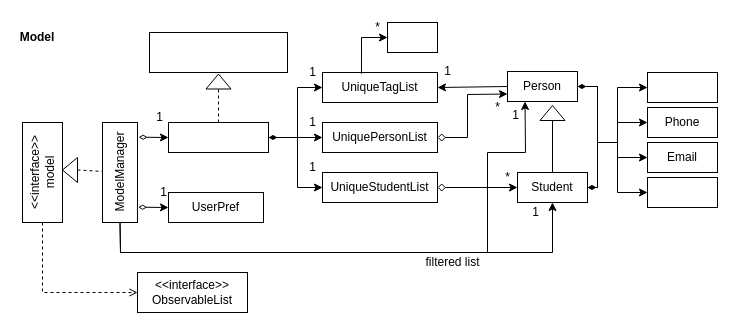
The diagram is 735 pixels wide and 330 high, and some of its shapes have lost their labels. The shapes that lost their labels are listed below. From the top down, each one's centre as x and y in pixels, then its label:
pixel 218 52: <<interface>> ReadOnlyAddressBook
pixel 412 37: Tag
pixel 682 87: Name
pixel 218 137: AddressBook
pixel 682 192: Address
